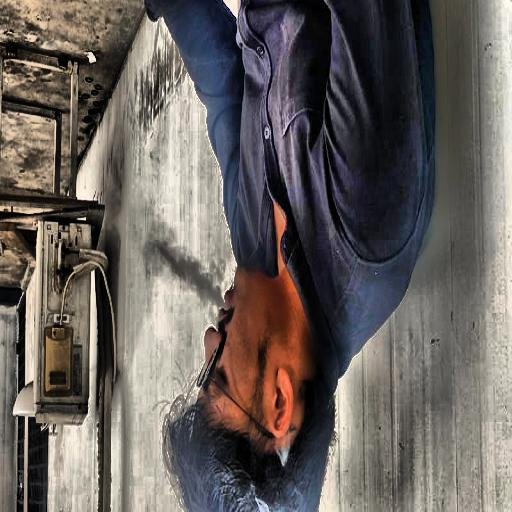Rokok: (145, 0, 435, 512)
